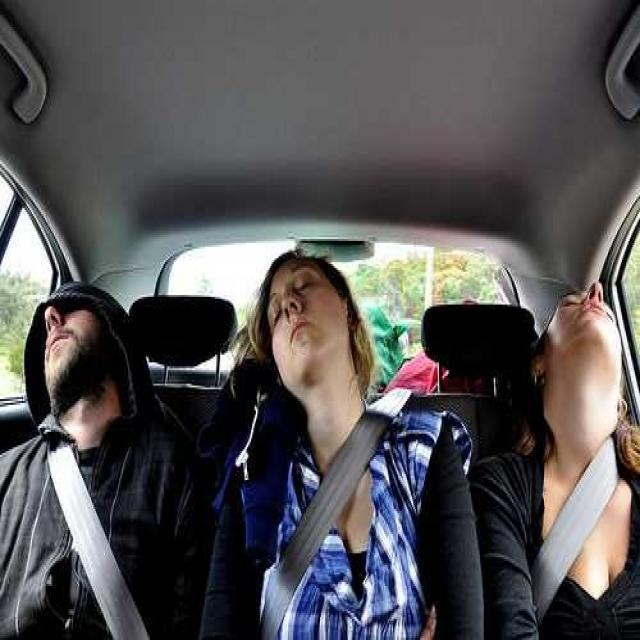seatbelt: (256, 380, 402, 594), (32, 404, 145, 636), (510, 428, 614, 613)
